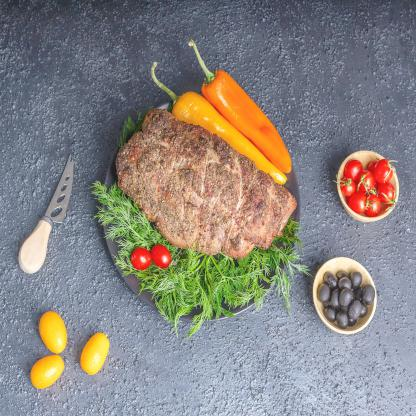Carne: (114, 122, 301, 259)
